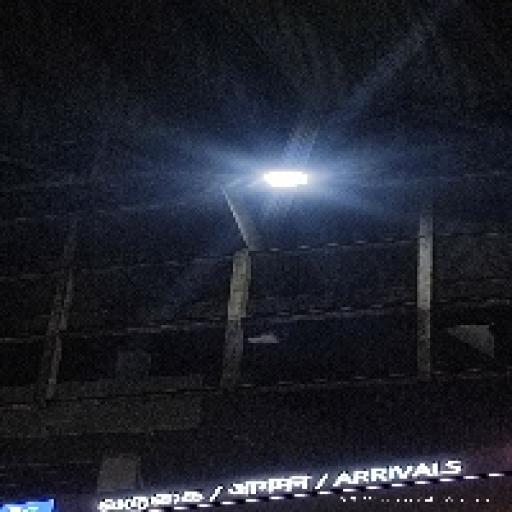Working: (249, 160, 316, 202)
